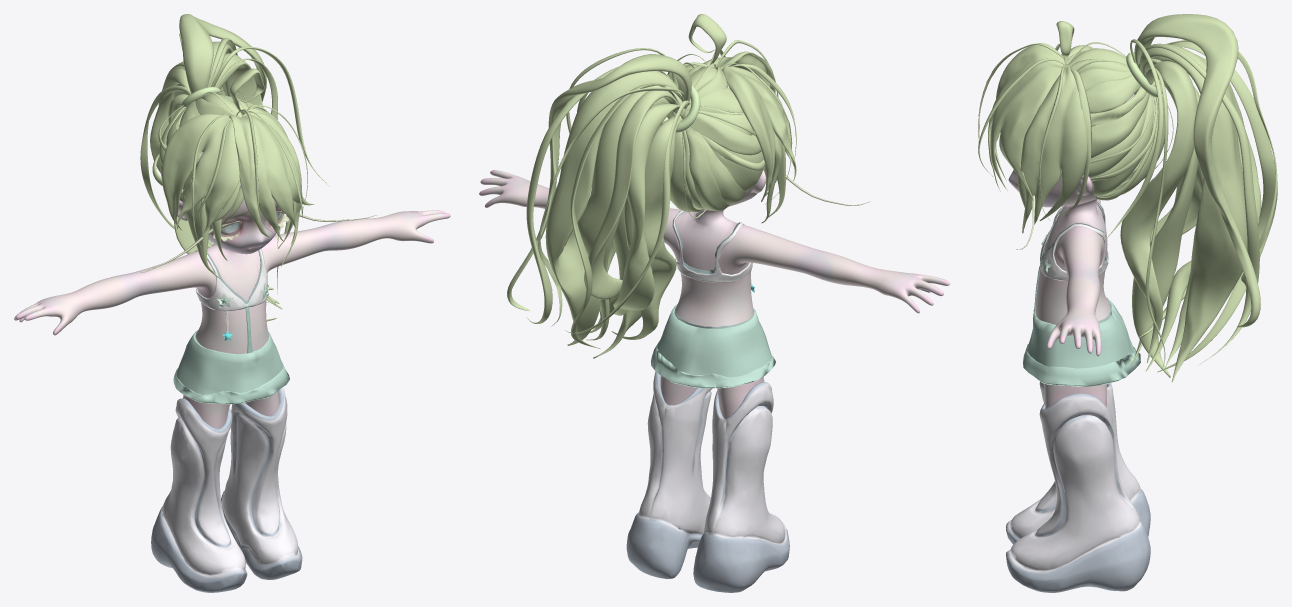
The model's file is ringring.glb.
The picture shows the model from 3 angles, left to right: view 1: azimuth 30°, elevation 25°; view 2: azimuth 150°, elevation 25°; view 3: azimuth 270°, elevation 25°; orthographic projection. The views are drawn at different scales.
Parts seen in each view (by area): view 1: hair, Shoes, Body_low, Skirt, Top_swimsuit_geo; view 2: hair, Shoes, Body_low, Skirt, Top_swimsuit_geo; view 3: hair, Shoes, Body_low, Skirt, Top_swimsuit_geo.
Boxes of the visible parts, box(x1,y1,x2,y2) form: hair: box(140, 14, 330, 321); Shoes: box(151, 387, 302, 592); Body_low: box(14, 152, 450, 428); Skirt: box(173, 330, 289, 404); Top_swimsuit_geo: box(195, 249, 268, 353); hair: box(507, 14, 796, 358); Shoes: box(626, 371, 789, 592); Body_low: box(479, 84, 949, 418); Skirt: box(651, 304, 775, 388); Top_swimsuit_geo: box(672, 210, 754, 328); hair: box(978, 14, 1277, 382); Shoes: box(1006, 381, 1150, 592); Body_low: box(1008, 94, 1134, 415); Skirt: box(1023, 299, 1140, 386); Top_swimsuit_geo: box(1034, 201, 1111, 322).
Bounding box in the file's own units: 0.9756 × 1.09 × 0.5325.
Materials: 9 (5 with a texture image).
